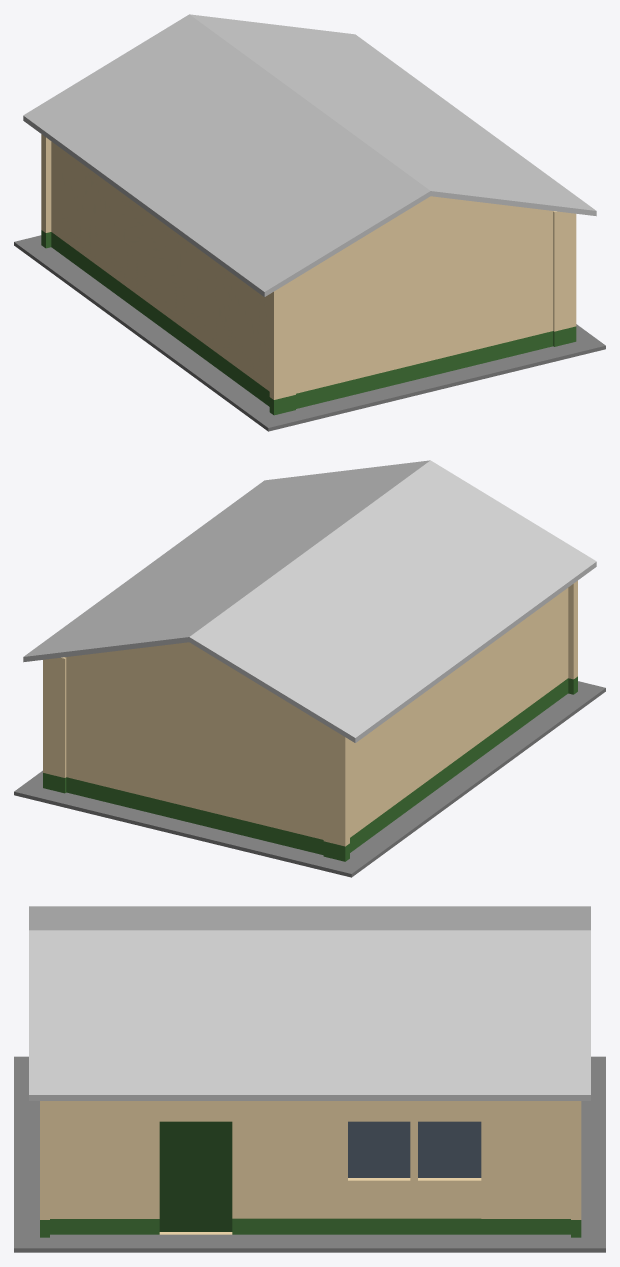
Rendered from ebodega.gltf.
3 views of the same model, one above another, from view 1: azimuth 30°, elevation 25°; view 2: azimuth 150°, elevation 25°; view 3: azimuth 270°, elevation 25° (orthographic). The views are drawn at different scales.
Parts seen in each view (by area): view 1: Plane; view 2: Plane; view 3: Plane.
Boxes of the visible parts, x1,y1,x2,y2 form: Plane: (14, 14, 605, 431); Plane: (14, 460, 605, 877); Plane: (14, 906, 605, 1252).
Size of the model in its own units: 7.87 by 4.34 by 10.27.
